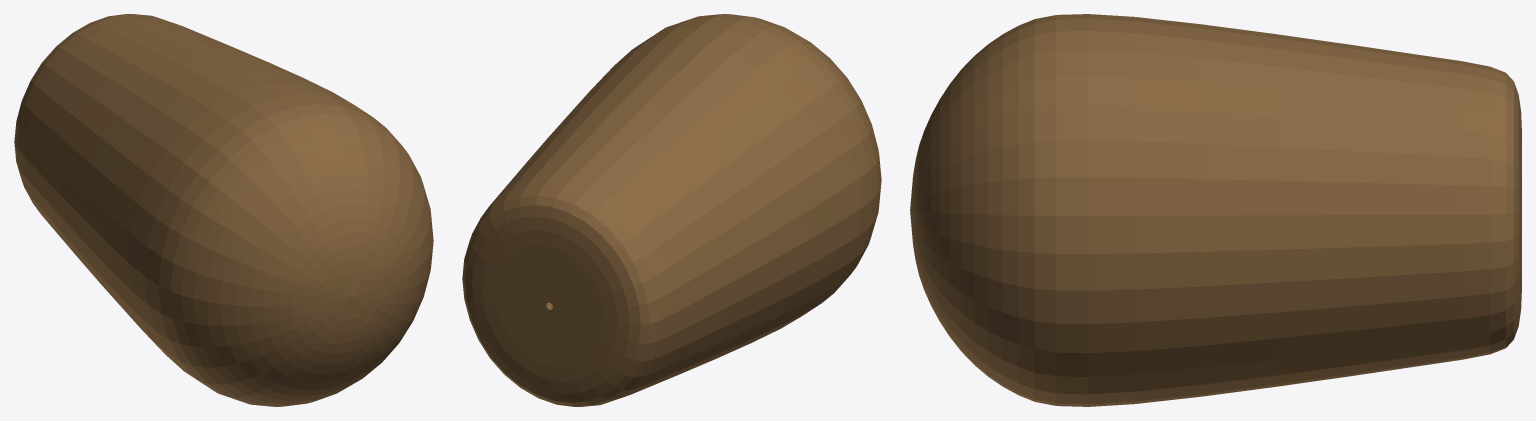
Rendered from HeadSegment_joint_visu.dae.
3 renders of one model, left to right at view 1: azimuth 30°, elevation 25°; view 2: azimuth 150°, elevation 25°; view 3: azimuth 270°, elevation 25°, orthographic. The views are drawn at different scales.
Visible parts, largest first — view 1: node; view 2: node; view 3: node.
Boxes of the visible parts, x1,y1,x2,y2 form: node: (14, 14, 433, 406); node: (462, 14, 881, 406); node: (910, 14, 1521, 406).
Bounding box in the file's own units: 0.0803 × 0.0844 × 0.13.
